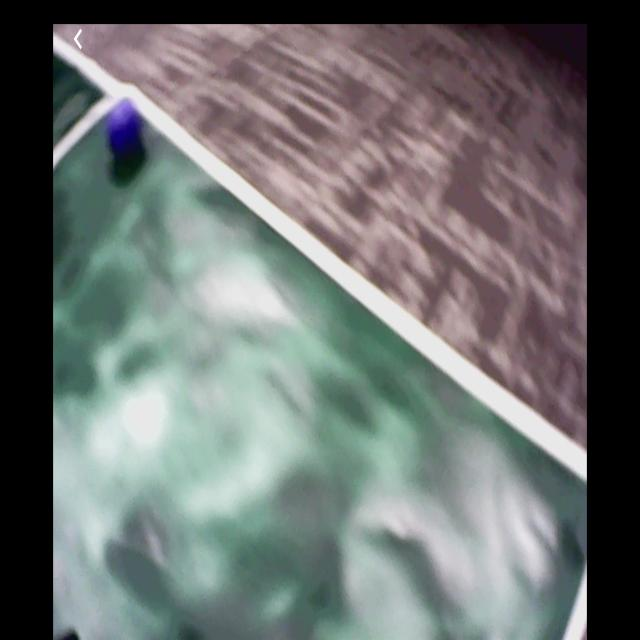ball: (108, 94, 145, 161)
